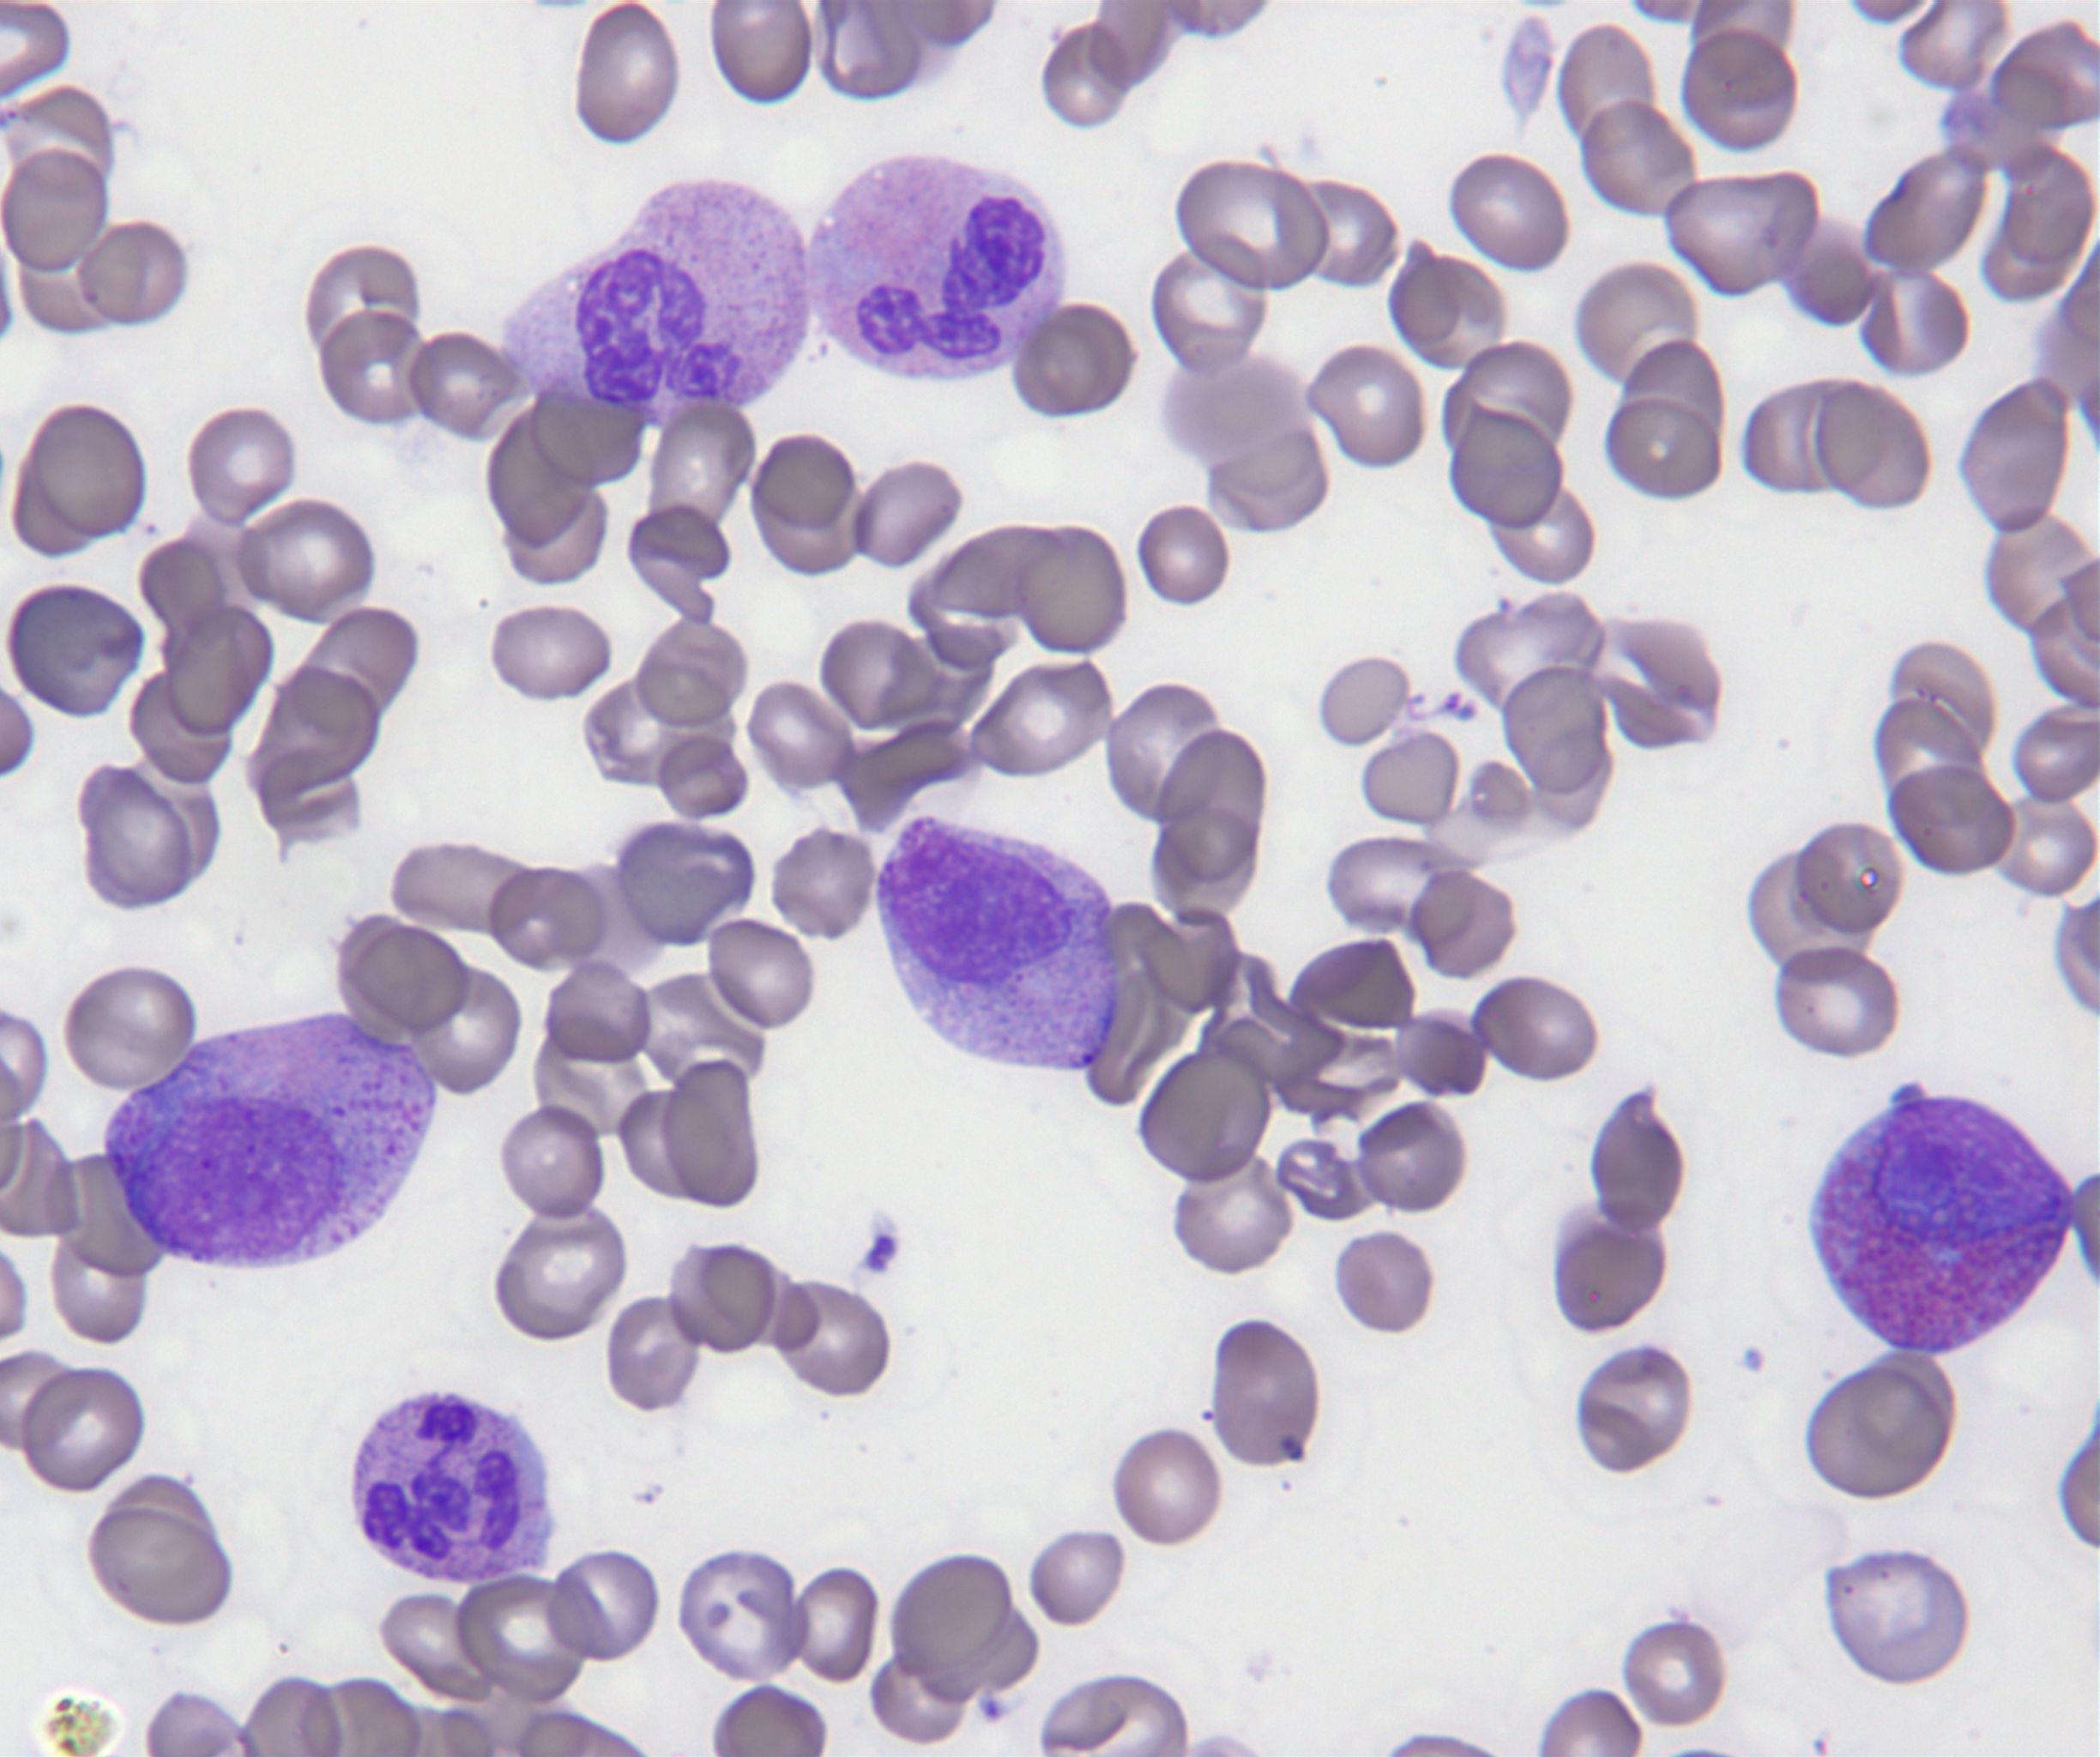3: (105, 1014, 436, 1268), (881, 817, 1118, 1068)
5: (499, 176, 811, 420)
6: (804, 154, 1069, 382), (354, 1389, 560, 1581)
E2: (1809, 1099, 2076, 1354)
